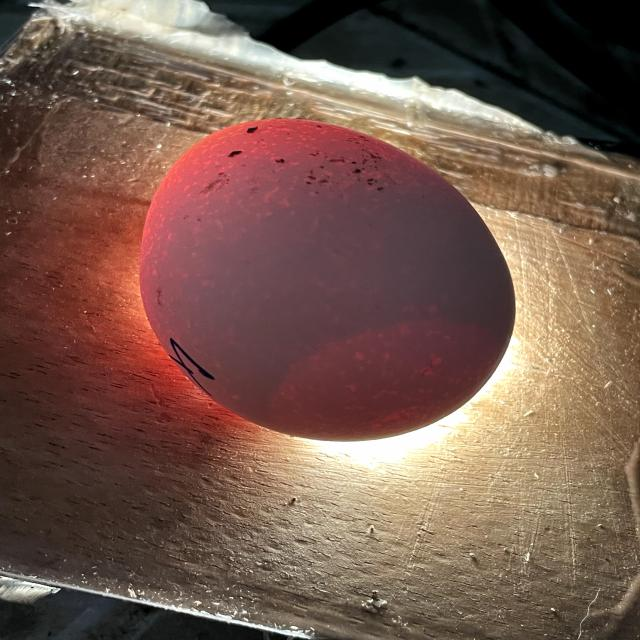fertile: (140, 119, 515, 440)
